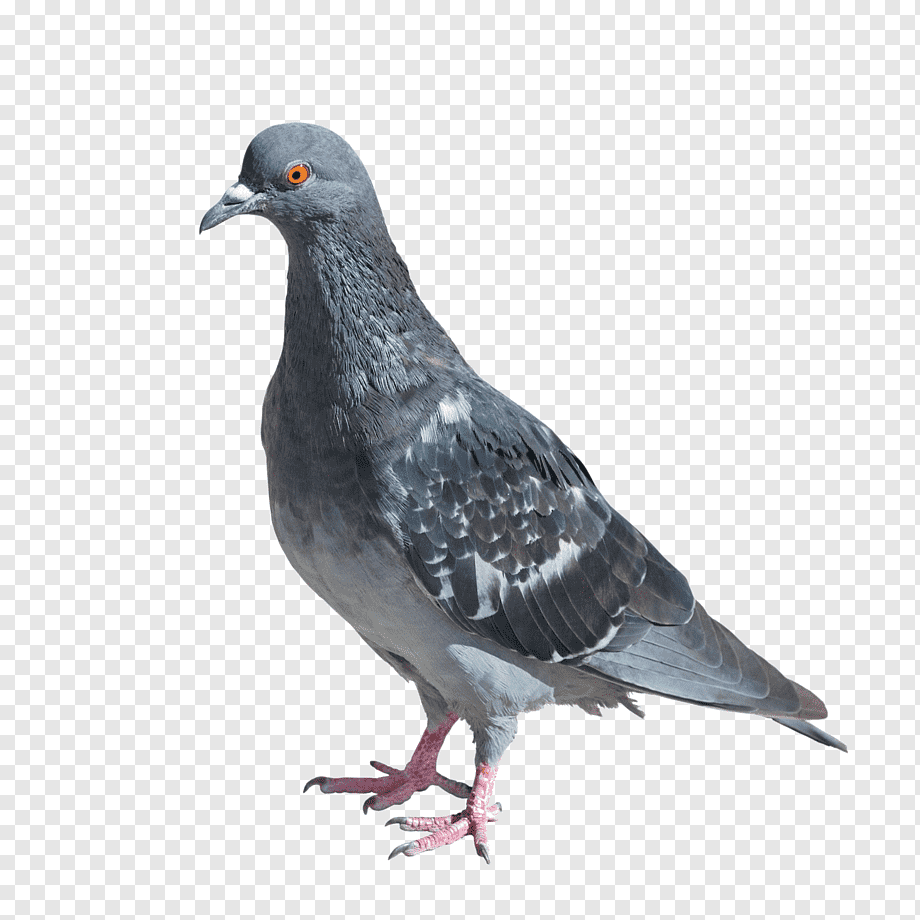Flying Rat: (193, 128, 816, 873)
